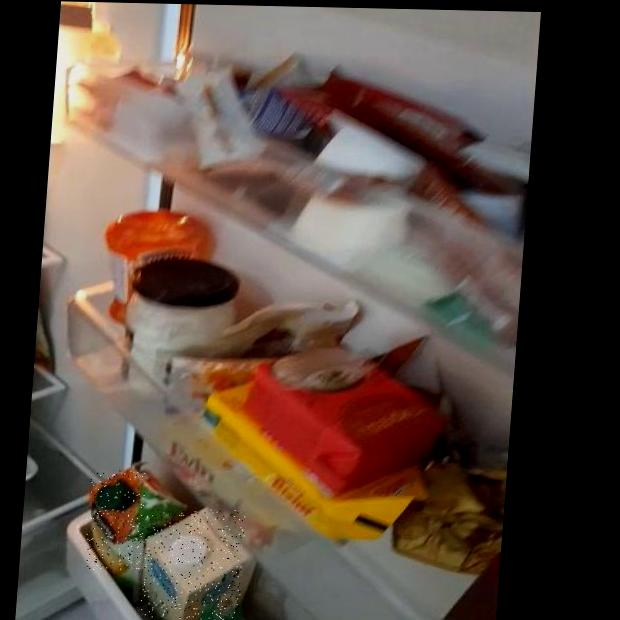juice: (84, 470, 147, 571)
milk: (139, 508, 247, 620)
